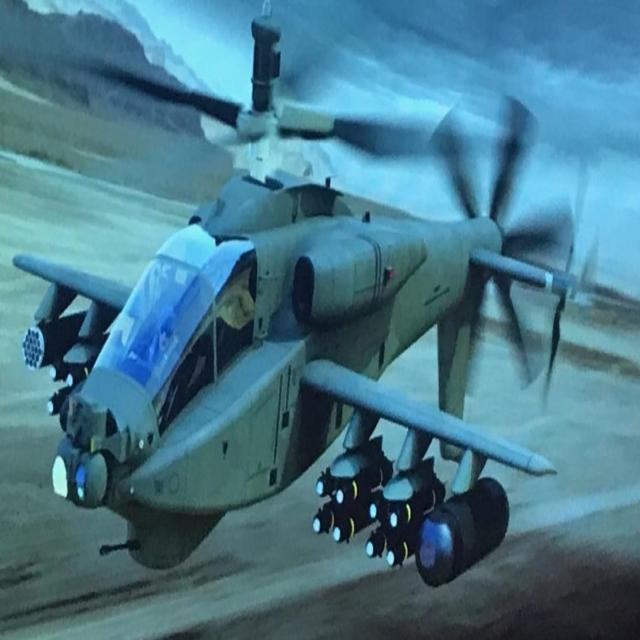MIL_HELO: (0, 0, 614, 615)
